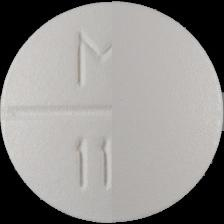53489-511: (0, 0, 224, 224)
